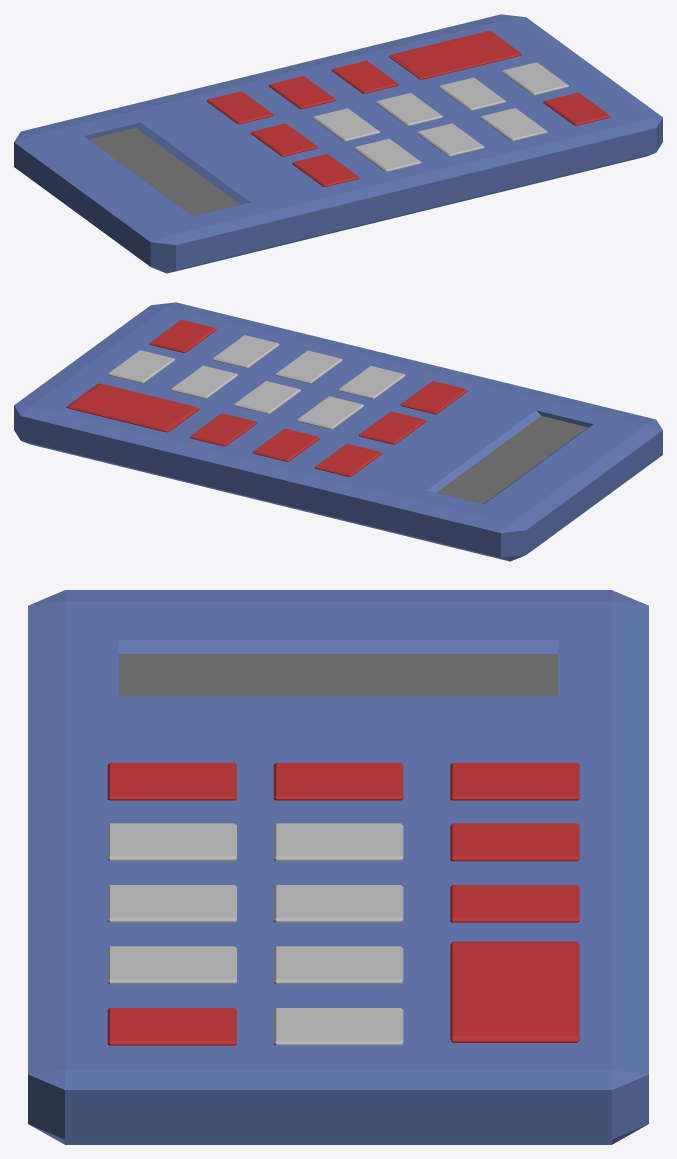
File: calculator.fbx
The picture shows the model from 3 angles, top to bottom: view 1: azimuth 30°, elevation 25°; view 2: azimuth 150°, elevation 25°; view 3: azimuth 270°, elevation 25°; orthographic projection. The views are drawn at different scales.
Visible parts, largest first — view 1: pCube2, polySurface6, polySurface3, polySurface5, polySurface9, polySurface10, polySurface14, polySurface1, polySurface8, polySurface2, polySurface4, polySurface7 (+3 smaller); view 2: pCube2, polySurface6, polySurface14, polySurface4, polySurface5, polySurface9, polySurface10, polySurface8, polySurface13, polySurface1, polySurface3, polySurface7 (+3 smaller); view 3: pCube2, polySurface6, polySurface9, polySurface8, polySurface11, polySurface4, polySurface5, polySurface2, polySurface13, polySurface14, polySurface7, polySurface10 (+3 smaller).
Part boxes in pixels (bbox=[...]): pCube2: bbox=[14, 14, 662, 273]; polySurface6: bbox=[389, 31, 522, 79]; polySurface3: bbox=[331, 60, 398, 93]; polySurface5: bbox=[206, 91, 273, 124]; polySurface9: bbox=[250, 123, 317, 156]; polySurface10: bbox=[502, 62, 569, 95]; polySurface14: bbox=[480, 108, 547, 141]; polySurface1: bbox=[417, 123, 484, 156]; polySurface8: bbox=[313, 108, 380, 141]; polySurface2: bbox=[354, 138, 421, 171]; polySurface4: bbox=[268, 76, 335, 109]; polySurface7: bbox=[376, 93, 443, 126]; pCube2: bbox=[14, 302, 662, 561]; polySurface6: bbox=[66, 383, 199, 432]; polySurface14: bbox=[212, 335, 279, 368]; polySurface4: bbox=[252, 428, 319, 461]; polySurface5: bbox=[314, 443, 382, 476]; polySurface9: bbox=[359, 411, 426, 444]; polySurface10: bbox=[107, 350, 174, 383]; polySurface8: bbox=[296, 396, 363, 429]; polySurface13: bbox=[400, 381, 467, 414]; polySurface1: bbox=[275, 350, 342, 383]; polySurface3: bbox=[189, 413, 256, 446]; polySurface7: bbox=[233, 381, 300, 414]; pCube2: bbox=[28, 590, 648, 1144]; polySurface6: bbox=[450, 941, 579, 1042]; polySurface9: bbox=[273, 762, 403, 800]; polySurface8: bbox=[273, 823, 403, 861]; polySurface11: bbox=[273, 946, 403, 984]; polySurface4: bbox=[450, 823, 579, 861]; polySurface5: bbox=[450, 762, 579, 800]; polySurface2: bbox=[107, 823, 236, 861]; polySurface13: bbox=[107, 762, 236, 800]; polySurface14: bbox=[107, 946, 236, 984]; polySurface7: bbox=[273, 885, 403, 922]; polySurface10: bbox=[273, 1008, 403, 1045].
Size of the model in its own units: 10 by 0.7327 by 5.25.
